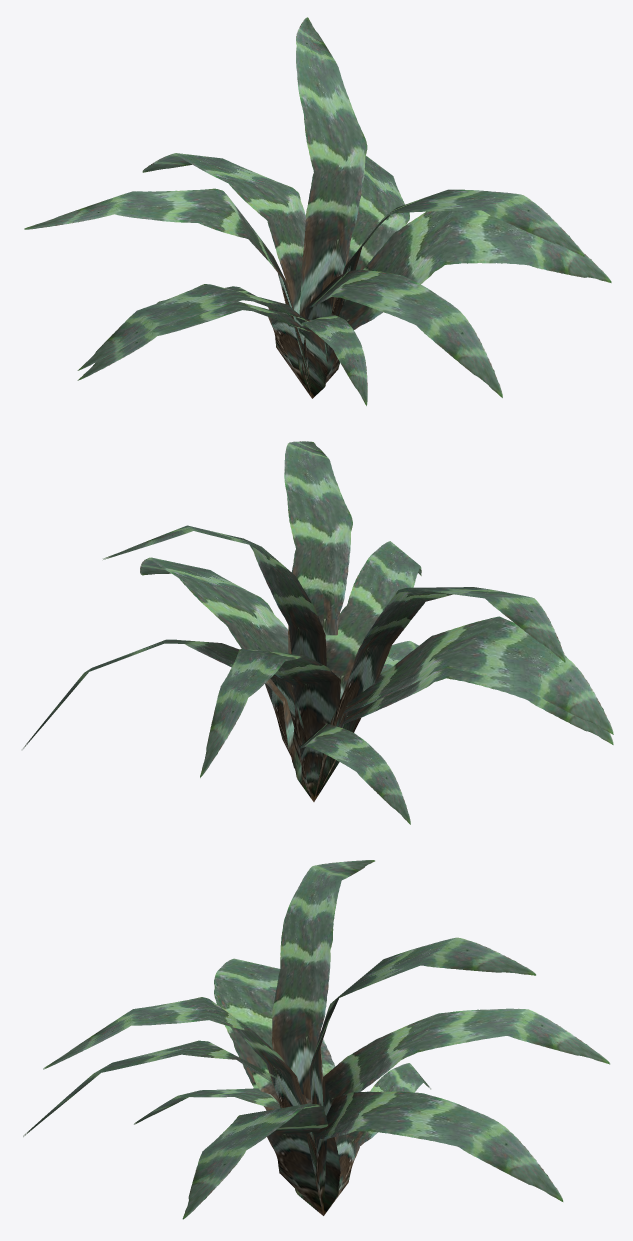
Rendered from Bromeliade.FBX.
The picture shows the model from 3 angles, top to bottom: view 1: azimuth 30°, elevation 25°; view 2: azimuth 150°, elevation 25°; view 3: azimuth 270°, elevation 25°; orthographic projection. The views are drawn at different scales.
Visible parts, largest first — view 1: bromeliacee_B; view 2: bromeliacee_B; view 3: bromeliacee_B.
Part boxes in pixels (x1,y1,x2,y2): bromeliacee_B: [24, 17, 611, 405]; bromeliacee_B: [22, 441, 613, 824]; bromeliacee_B: [23, 860, 609, 1219].
Bounding box in the file's own units: 1.43 × 0.8015 × 1.43.
Materials: 1 (1 with a texture image).
